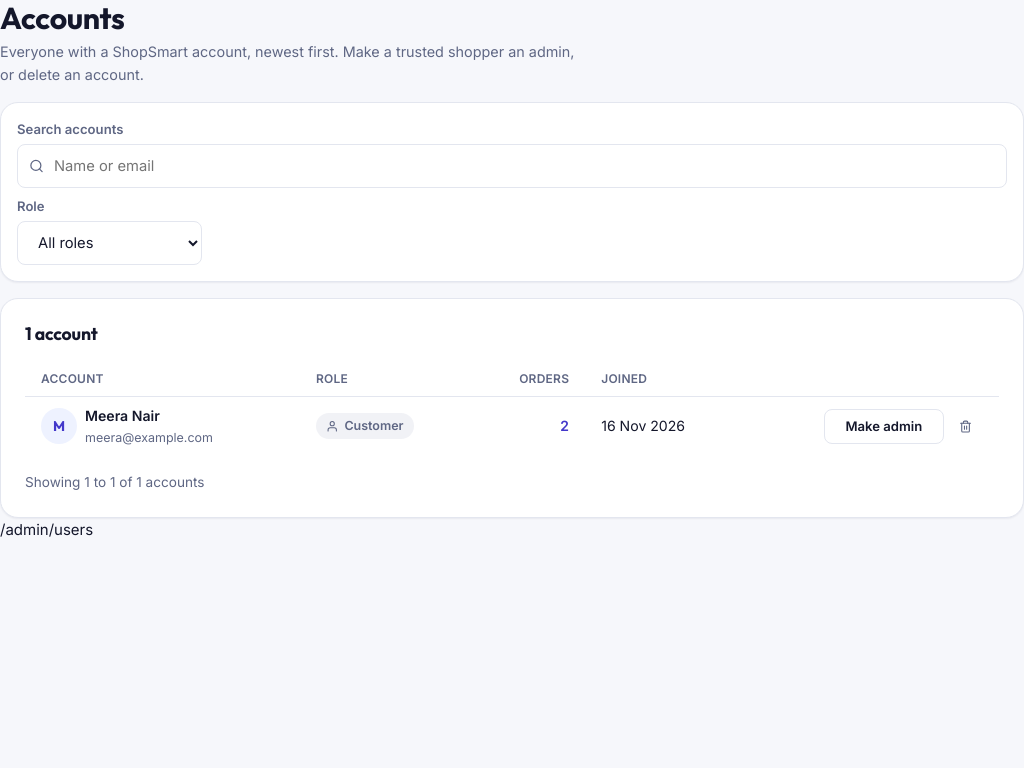
Test case: AdminUsers › shows the SELF_ROLE_CHANGE message in the dialog
This screenshot has width=1024, height=768.
Check: the text "meera@example.com" is shown, box [85,428,213,448]
Click the button "Make admin".
click(884, 426)  # box [824,409,944,444]
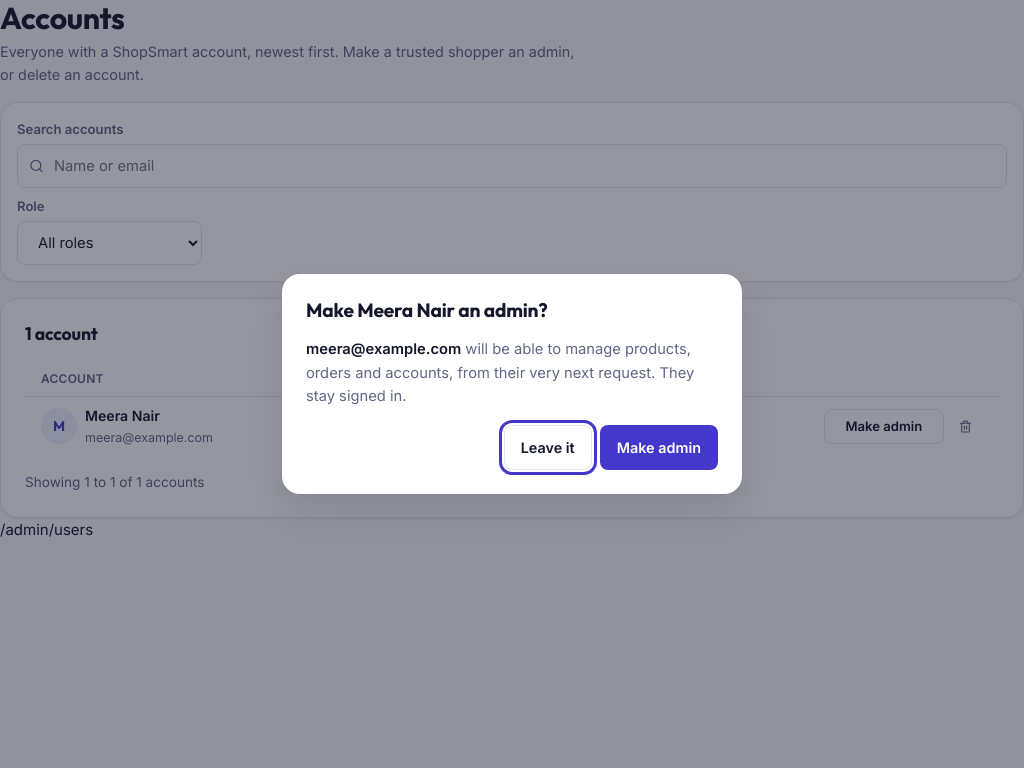
Click the button "Make admin".
click(659, 447)  # box [600,425,718,470]
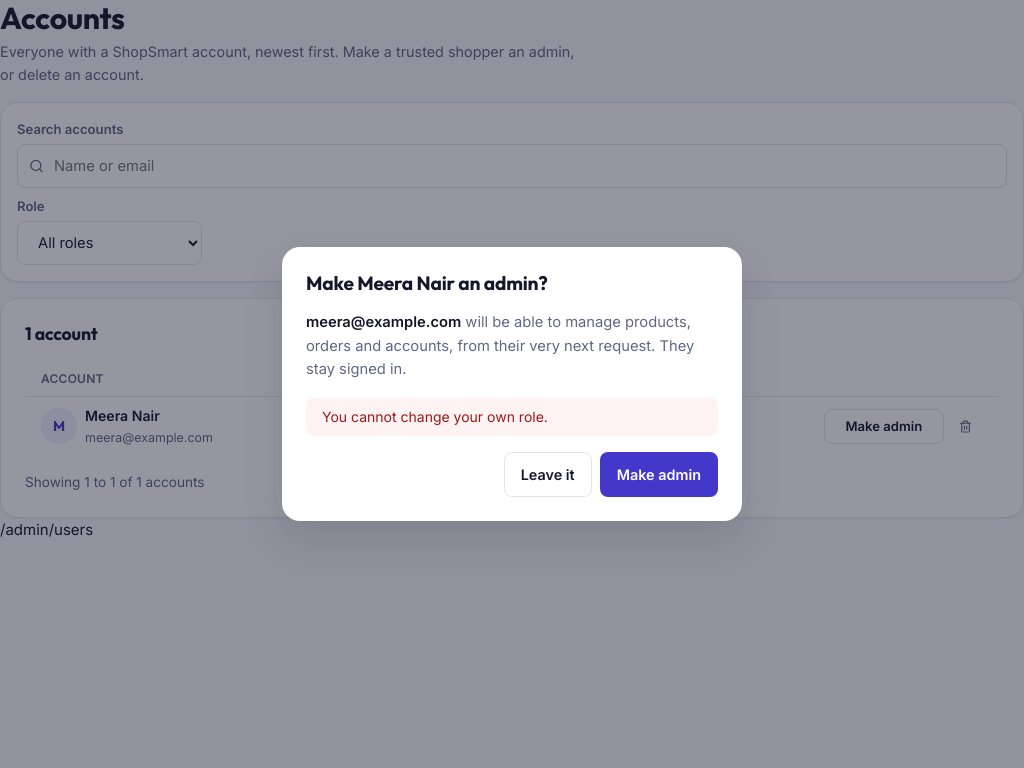
Check: the message reads "You cannot change your own role.", box [322,408,548,425]
